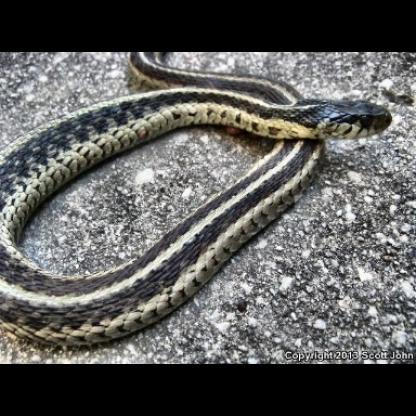Snake: (0, 56, 395, 348)
